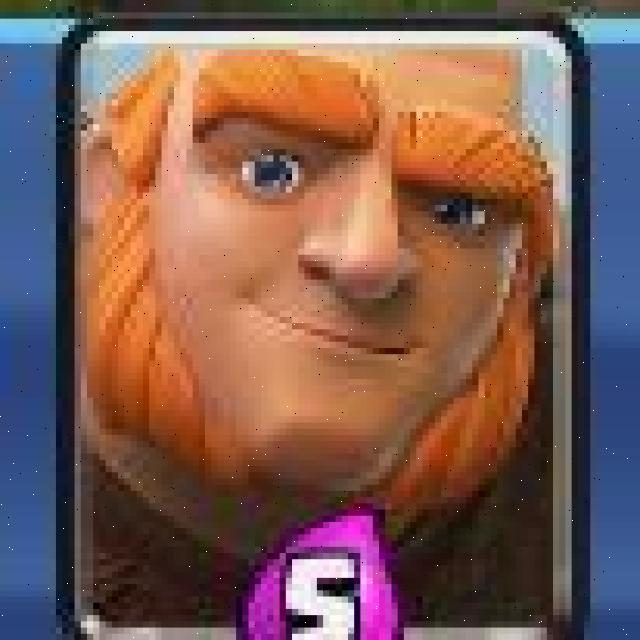Giant: (56, 17, 586, 640)
